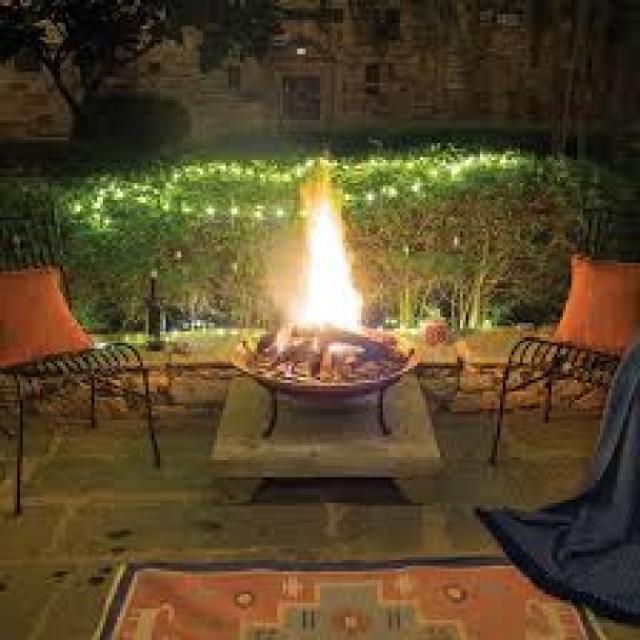fire: (275, 163, 365, 362)
